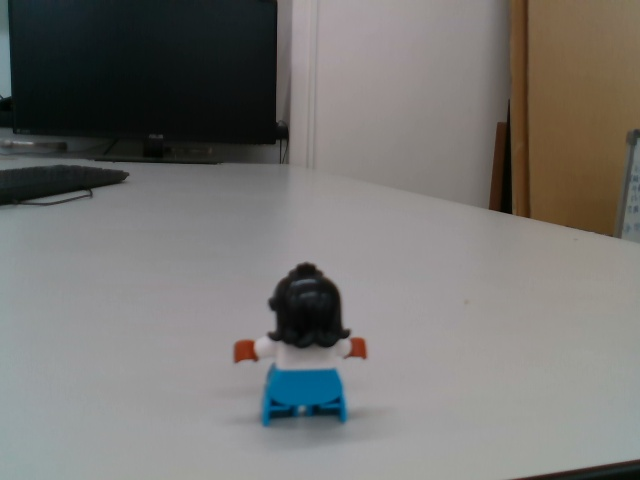people: (231, 259, 371, 427)
